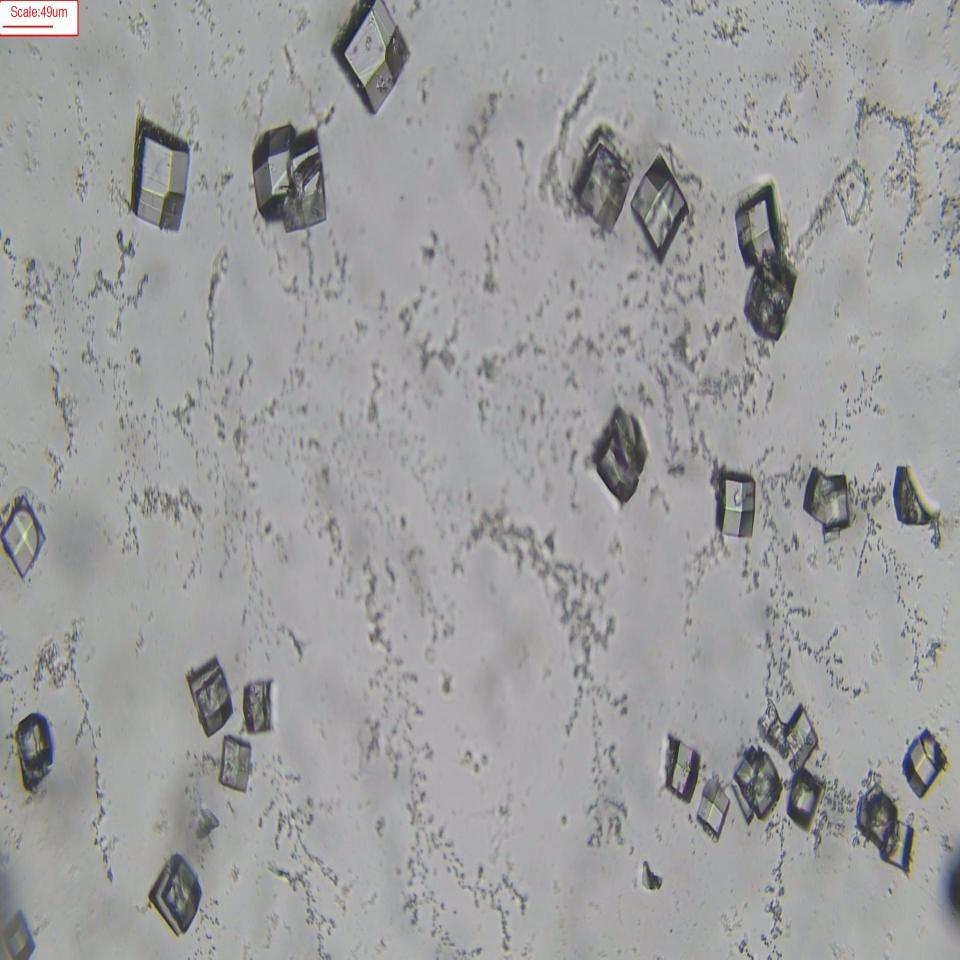crystal: (331, 2, 409, 109), (128, 121, 190, 236), (633, 154, 686, 253), (599, 406, 647, 502), (149, 856, 205, 936), (576, 142, 629, 226), (0, 494, 46, 579), (734, 189, 779, 266), (733, 749, 781, 820), (775, 700, 828, 763), (186, 663, 235, 729), (718, 466, 756, 543), (801, 468, 851, 526), (17, 712, 53, 790), (902, 728, 943, 794), (696, 776, 730, 844), (664, 735, 698, 799), (219, 735, 254, 795), (786, 767, 820, 828), (244, 682, 276, 736), (3, 910, 35, 960)
not_crystal: (243, 122, 329, 227), (854, 785, 916, 874)
